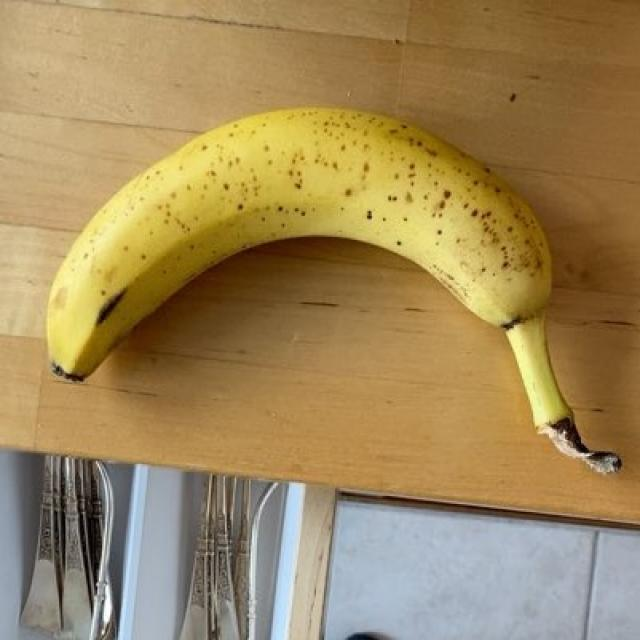banana: (47, 108, 585, 441)
